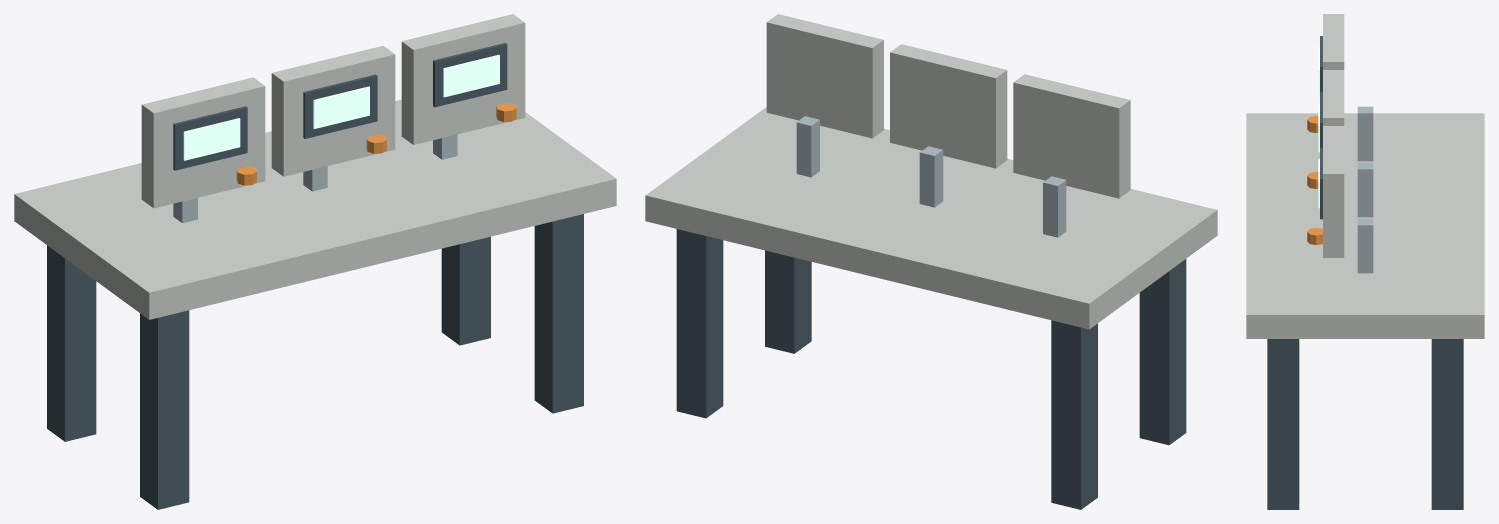
The model's file is control-room-desk.glb.
3 views of the same model, side by side, from view 1: azimuth 30°, elevation 25°; view 2: azimuth 150°, elevation 25°; view 3: azimuth 270°, elevation 25° (orthographic). The views are drawn at different scales.
Parts seen in each view (by area): view 1: cream, dark, light, steel, orange; view 2: cream, dark, steel; view 3: cream, dark, steel, orange, light.
Part boxes in pixels (left/top/right/bottom): cream: left=14, top=14, right=616, bottom=319; dark: left=47, top=43, right=583, bottom=509; light: left=183, top=54, right=499, bottom=160; steel: left=173, top=134, right=457, bottom=222; orange: left=236, top=103, right=516, bottom=185; cream: left=645, top=14, right=1217, bottom=329; dark: left=676, top=229, right=1186, bottom=509; steel: left=796, top=116, right=1066, bottom=237; cream: left=1246, top=14, right=1484, bottom=338; dark: left=1267, top=36, right=1463, bottom=509; steel: left=1357, top=106, right=1373, bottom=273; orange: left=1307, top=116, right=1322, bottom=244; light: left=1318, top=47, right=1319, bottom=208.
Bounding box in the file's own units: 1.8 × 1.35 × 0.9001.
